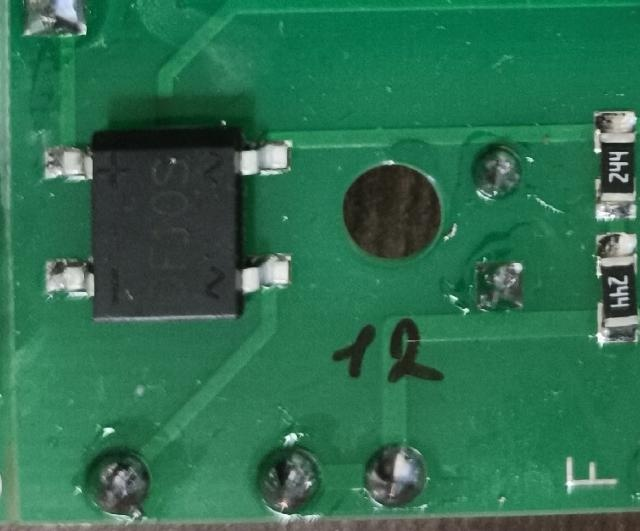chip-resistor: (591, 106, 639, 222), (594, 231, 640, 347)
ic: (39, 124, 301, 328)
